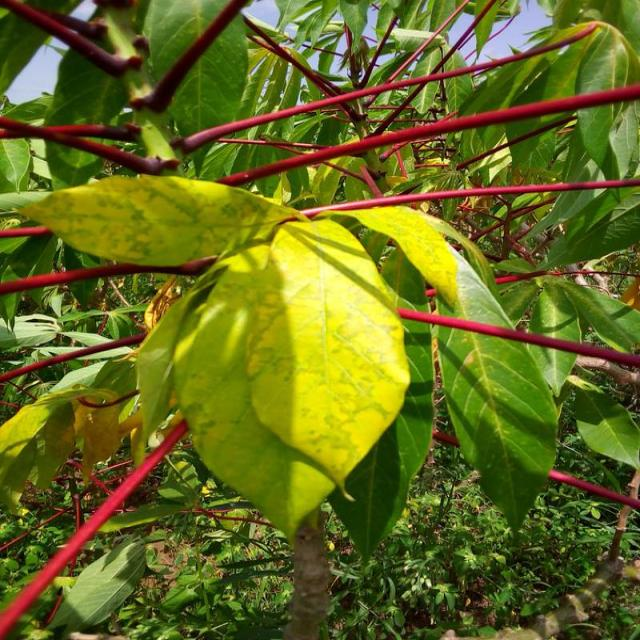cassava leaf: (135, 213, 413, 544), (436, 243, 561, 537)
